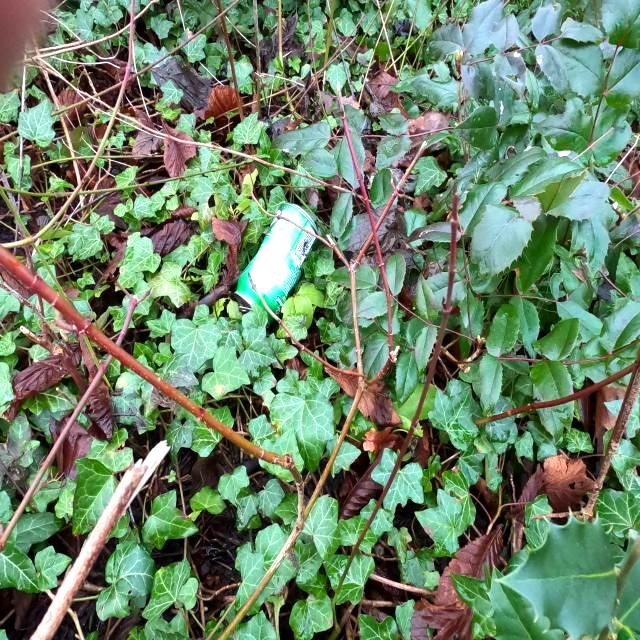Metal: (233, 200, 323, 330)
